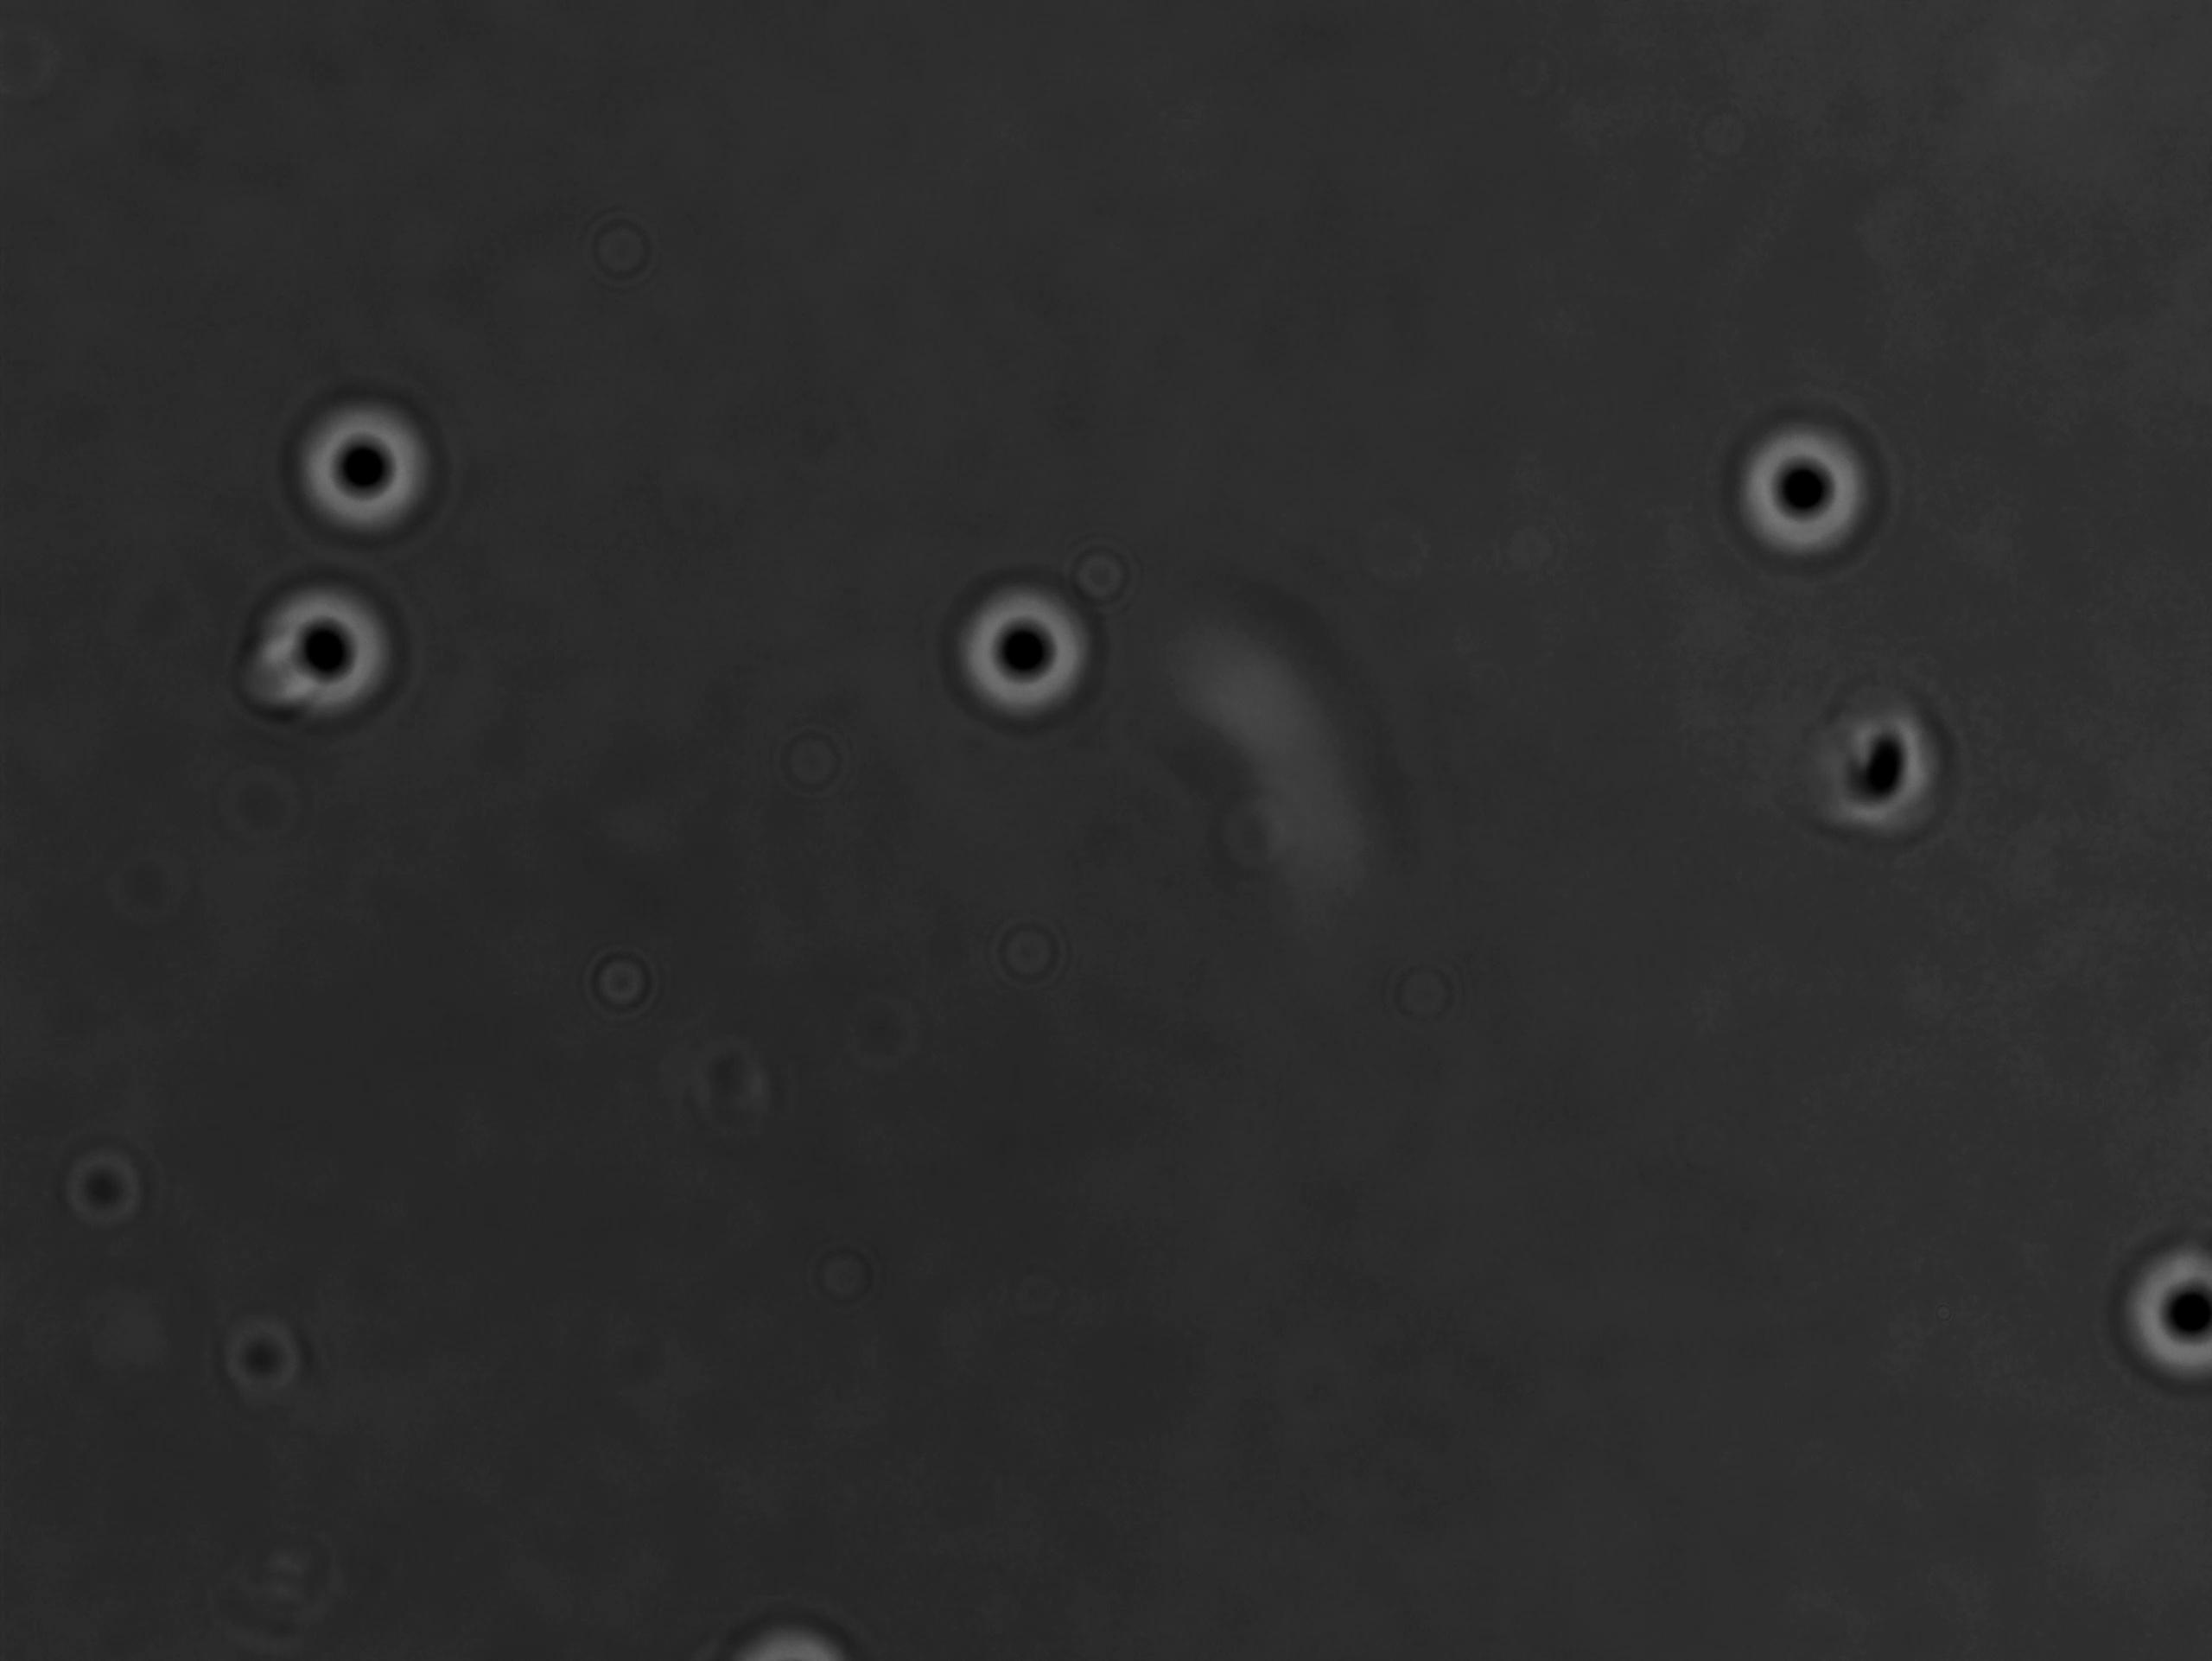depth:-40: (1722, 410, 1905, 588), (286, 387, 455, 544), (942, 567, 1099, 731), (248, 579, 420, 728), (2111, 1234, 2212, 1377)
